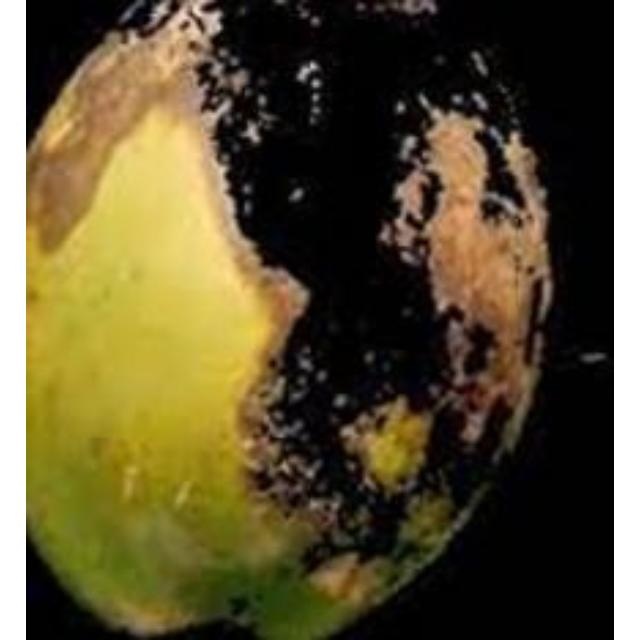damaged: (26, 0, 568, 637)
